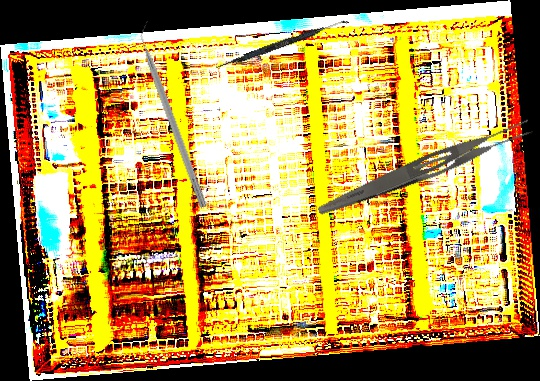Chopper: (133, 19, 217, 209)
Dressing Forceps: (315, 113, 535, 226)
Spatula Surgical: (215, 15, 349, 73)
